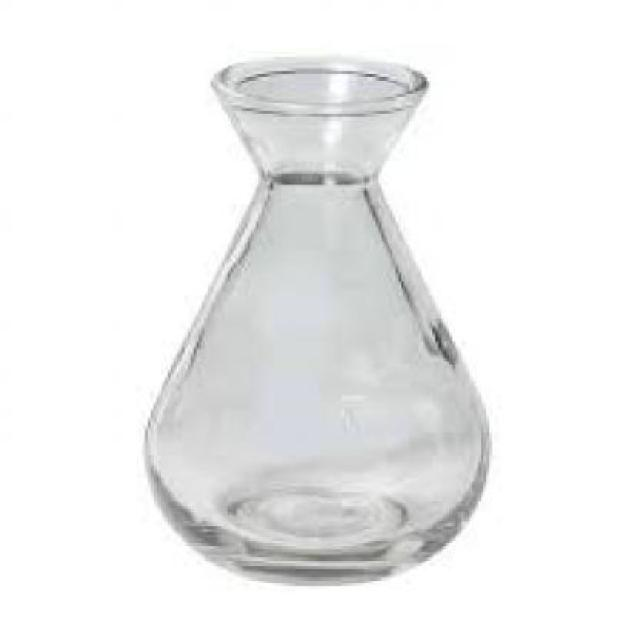kaca: (143, 51, 486, 580)
